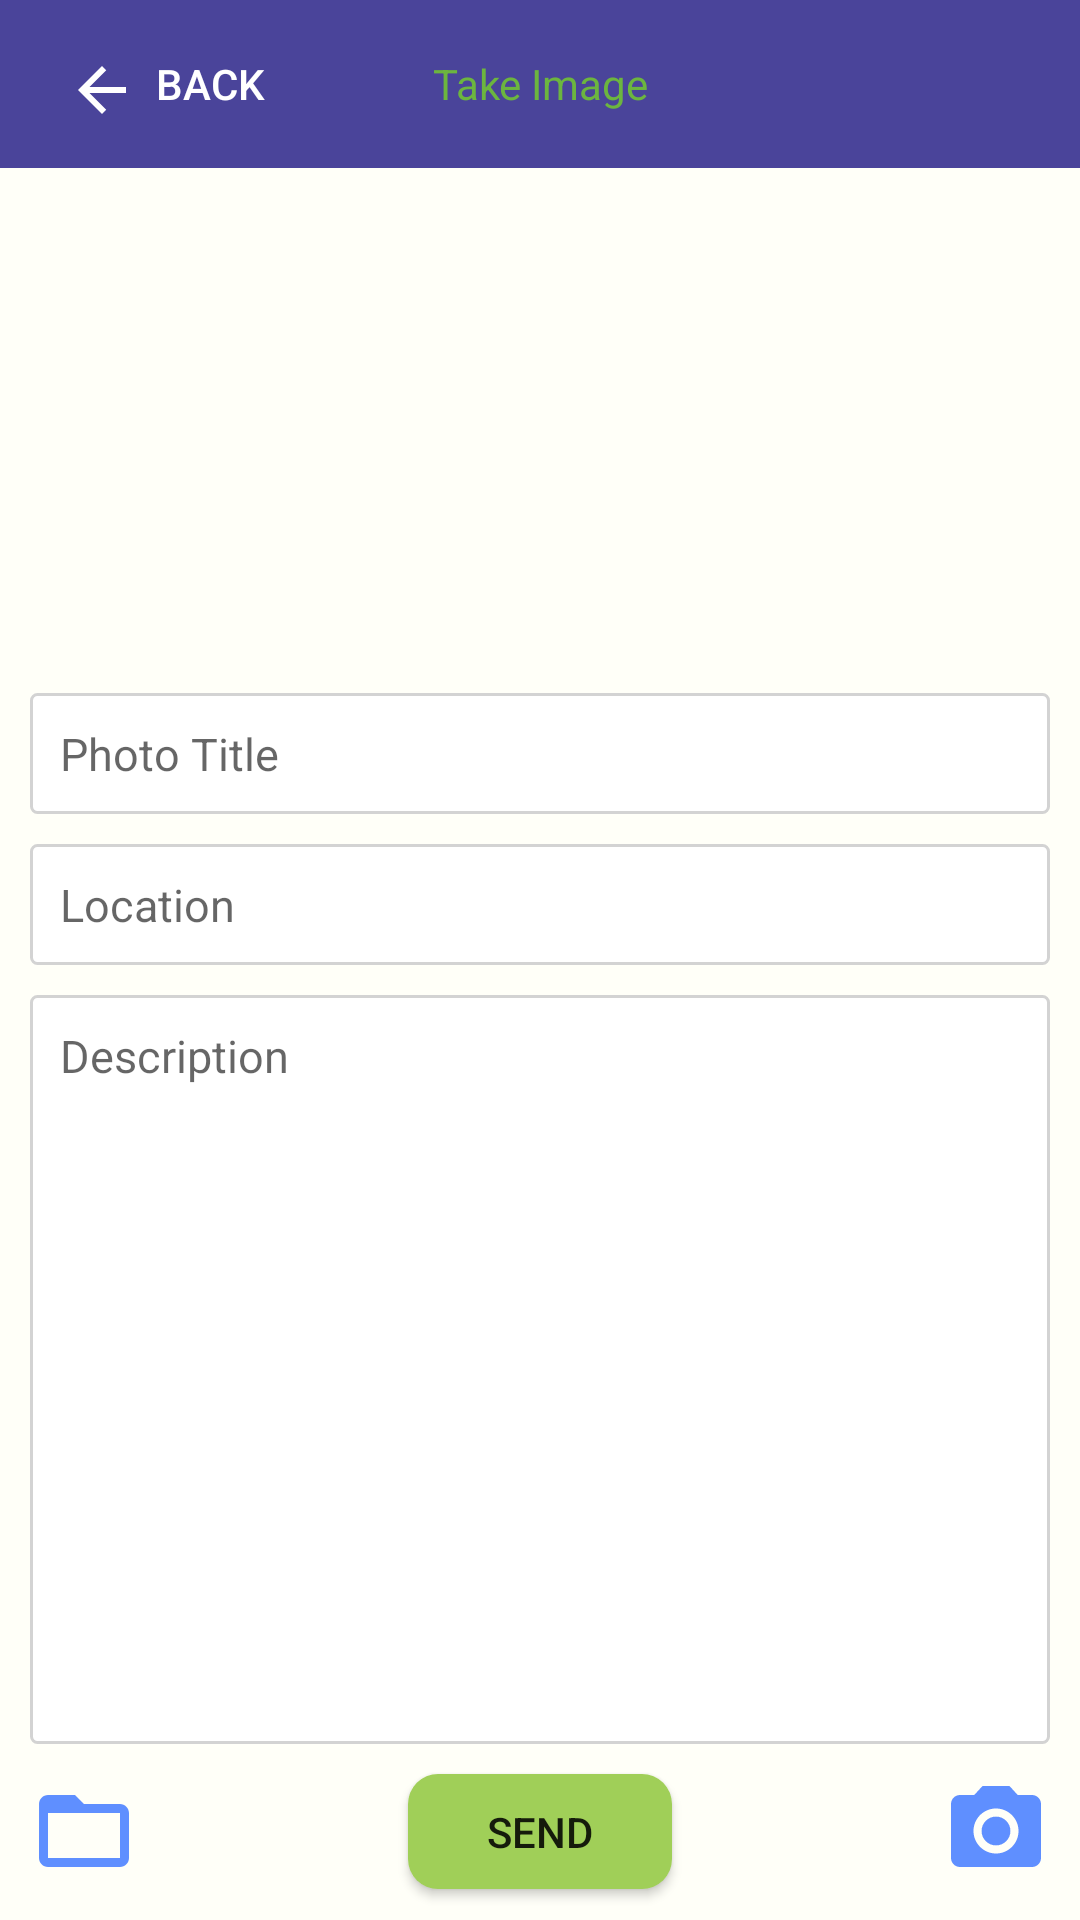

Where icons sit on this 1080px×1920px app screen, as (x1, y1, x2, y2):
camera: (951, 1786, 1041, 1867)
library: (39, 1795, 129, 1867)
